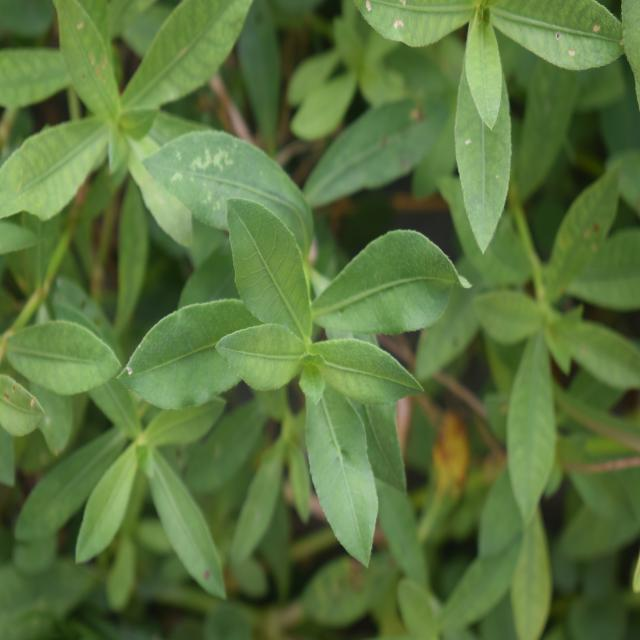Alligatorweed: (129, 112, 458, 540)
